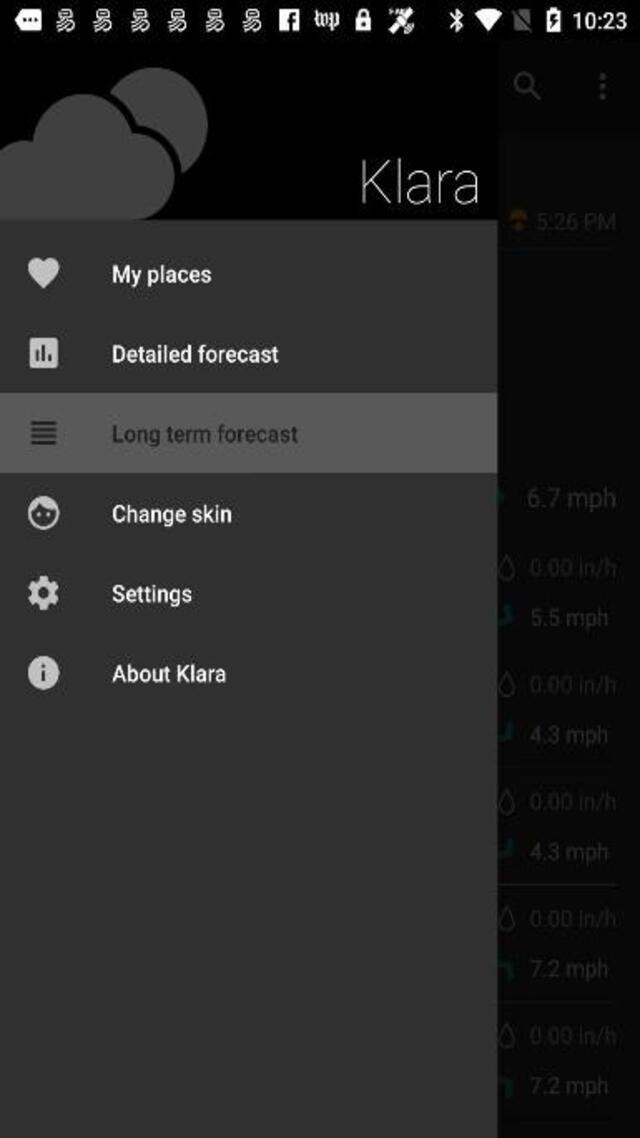Icon: (27, 655, 59, 689), (27, 495, 59, 529), (27, 258, 59, 290), (28, 575, 58, 609), (29, 337, 57, 367), (29, 420, 56, 444)
Text: (363, 158, 478, 204), (114, 424, 298, 447), (114, 344, 278, 364), (111, 504, 231, 527), (114, 264, 212, 287), (112, 663, 225, 681), (112, 584, 192, 607)
